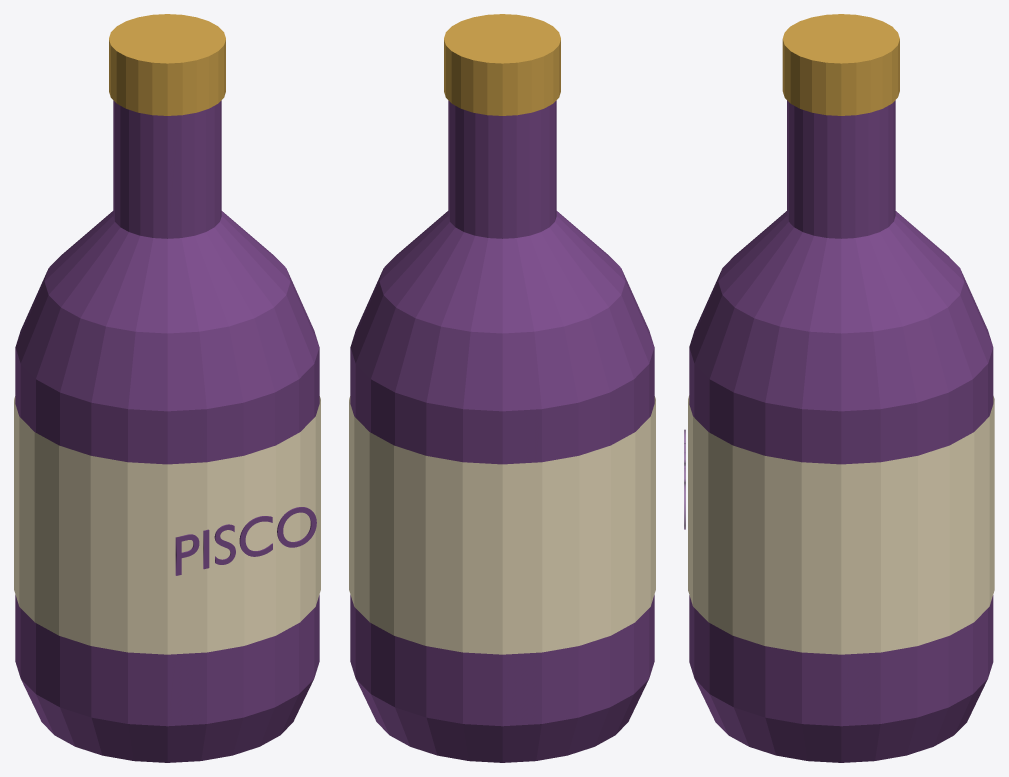
Rendered from food_pisco_runtime.glb.
The picture shows the model from 3 angles, left to right: view 1: azimuth 30°, elevation 25°; view 2: azimuth 150°, elevation 25°; view 3: azimuth 270°, elevation 25°; orthographic projection.
Parts seen in each view (by area): view 1: Pisco; view 2: Pisco; view 3: Pisco.
Part boxes in pixels (x1=…): Pisco: x1=14, y1=14, x2=320, y2=762; Pisco: x1=349, y1=14, x2=655, y2=762; Pisco: x1=684, y1=14, x2=994, y2=762.
Bounding box in the file's own units: 0.424 × 1.02 × 0.429.
